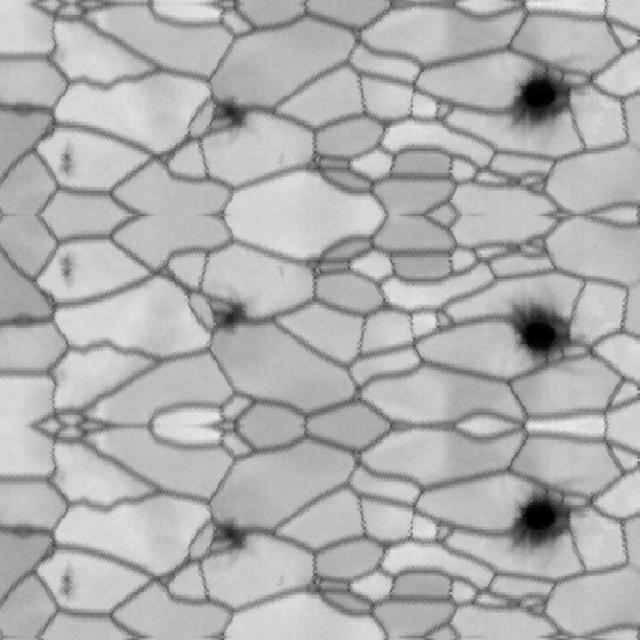good_void: (501, 279, 583, 367), (501, 61, 583, 149), (501, 485, 583, 573), (209, 284, 258, 332), (209, 96, 258, 144), (209, 520, 258, 568), (53, 249, 75, 287), (53, 141, 75, 179), (53, 565, 75, 603), (275, 263, 288, 277), (275, 151, 288, 165), (275, 575, 288, 589)
